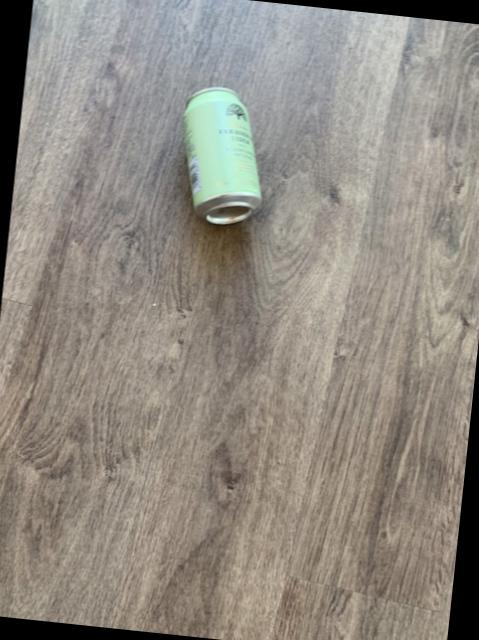metal: (181, 85, 259, 221)
